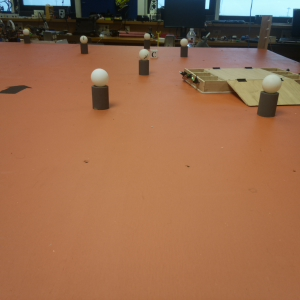blockC: (149, 50, 159, 58)
corner: (262, 14, 270, 51)
obstacle: (260, 73, 279, 116), (92, 66, 109, 110), (139, 49, 149, 76), (179, 38, 188, 56), (79, 35, 87, 54), (21, 28, 30, 43), (143, 34, 150, 47)
side: (179, 68, 215, 94)
slope: (228, 79, 300, 106)
start: (1, 83, 33, 96)
